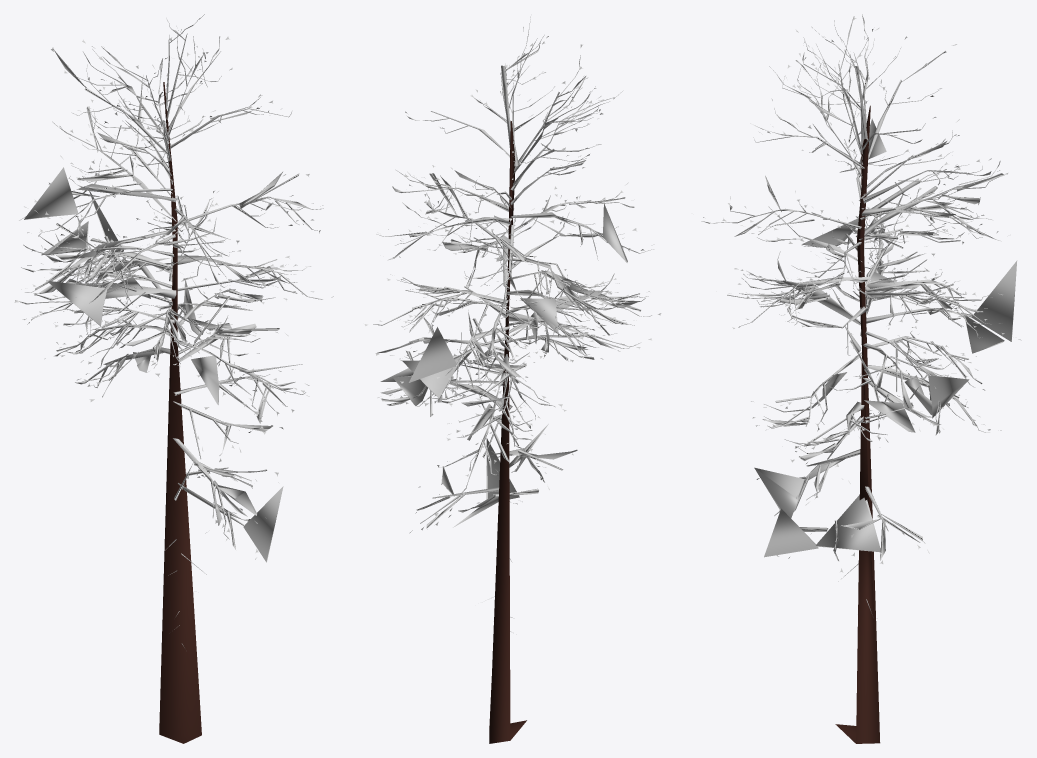
File: pine_c_lod2.obj
3 views of the same model, side by side, from view 1: azimuth 30°, elevation 25°; view 2: azimuth 150°, elevation 25°; view 3: azimuth 270°, elevation 25° (orthographic). The views are drawn at different scales.
Parts seen in each view (by area): view 1: pine_c_lod2; view 2: pine_c_lod2; view 3: pine_c_lod2.
Boxes of the visible parts, bbox=[...] form: pine_c_lod2: bbox=[14, 14, 333, 743]; pine_c_lod2: bbox=[364, 14, 661, 743]; pine_c_lod2: bbox=[701, 14, 1021, 743].
Size of the model in its own units: 254 by 676 by 285.
